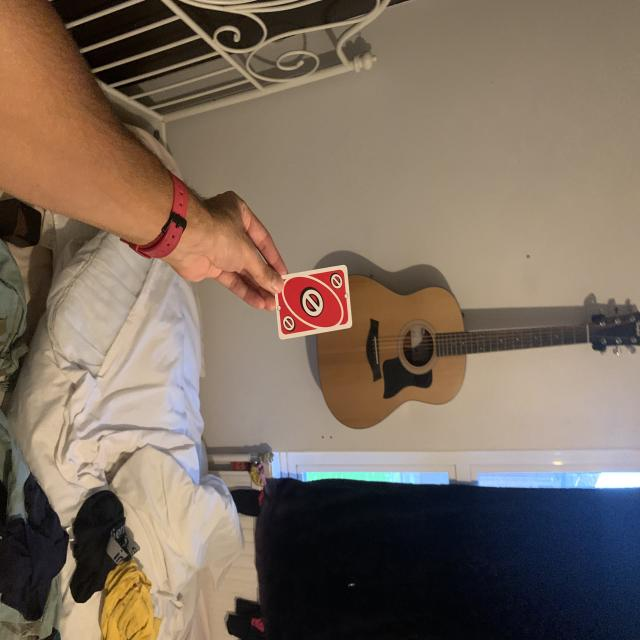lredskip-20: (327, 271, 344, 292)
